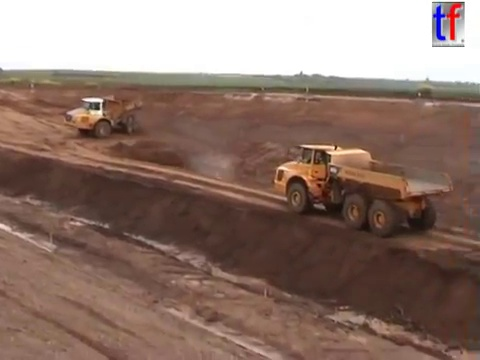truck: (271, 142, 456, 239), (63, 87, 146, 141)
